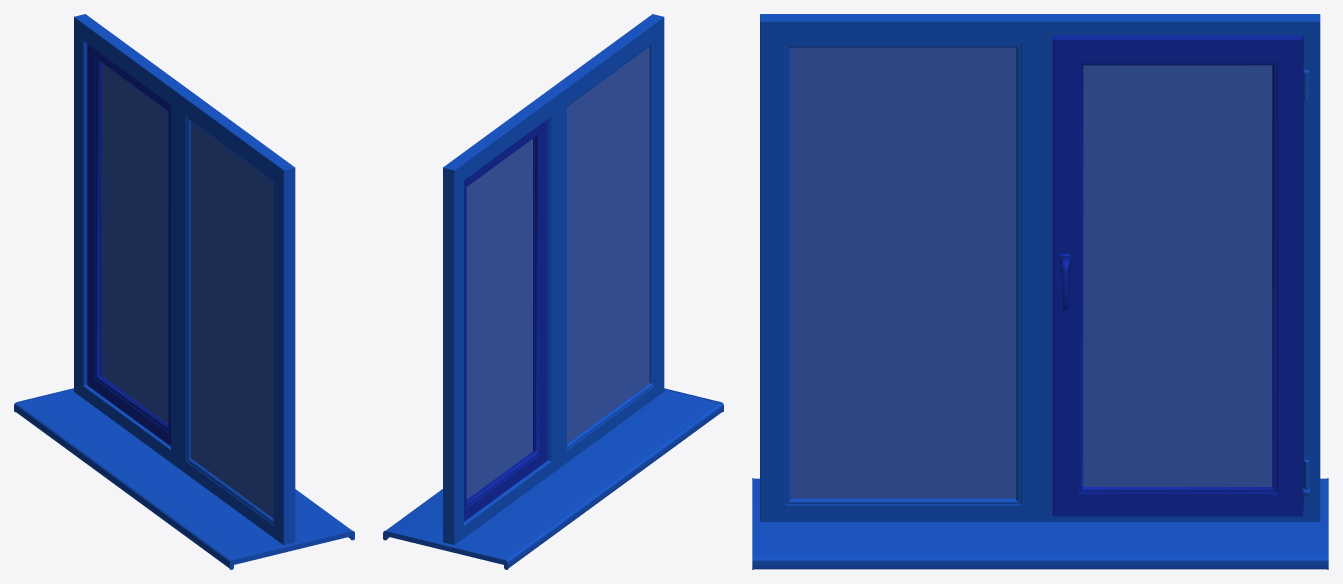
Rendered from SmallWindow_Game2.FBX.
3 views of the same model, side by side, from view 1: azimuth 30°, elevation 25°; view 2: azimuth 150°, elevation 25°; view 3: azimuth 270°, elevation 25° (orthographic). The views are drawn at different scales.
Visible parts, largest first — view 1: Glass (×2), SmallWindow_Unwrapped001, SmallSill_Unwrapped001, SmallWindowPart_Unwrapped001; view 2: Glass (×2), SmallWindow_Unwrapped001, SmallSill_Unwrapped001, SmallWindowPart_Unwrapped001; view 3: Glass (×2), SmallWindow_Unwrapped001, SmallWindowPart_Unwrapped001, SmallSill_Unwrapped001.
Boxes of the visible parts, box(x1,y1,x2,y2) form: Glass (×2): box(102, 63, 273, 518); SmallWindow_Unwrapped001: box(74, 14, 295, 545); SmallSill_Unwrapped001: box(14, 388, 354, 569); SmallWindowPart_Unwrapped001: box(87, 44, 170, 446); Glass (×2): box(466, 46, 649, 499); SmallWindow_Unwrapped001: box(443, 14, 664, 544); SmallSill_Unwrapped001: box(383, 388, 723, 569); SmallWindowPart_Unwrapped001: box(464, 119, 547, 521); Glass (×2): box(790, 47, 1272, 498); SmallWindow_Unwrapped001: box(760, 14, 1320, 521); SmallWindowPart_Unwrapped001: box(1052, 35, 1302, 516); SmallSill_Unwrapped001: box(752, 478, 1328, 569).
Bounding box in the file's own units: 61.15 × 180 × 183.
